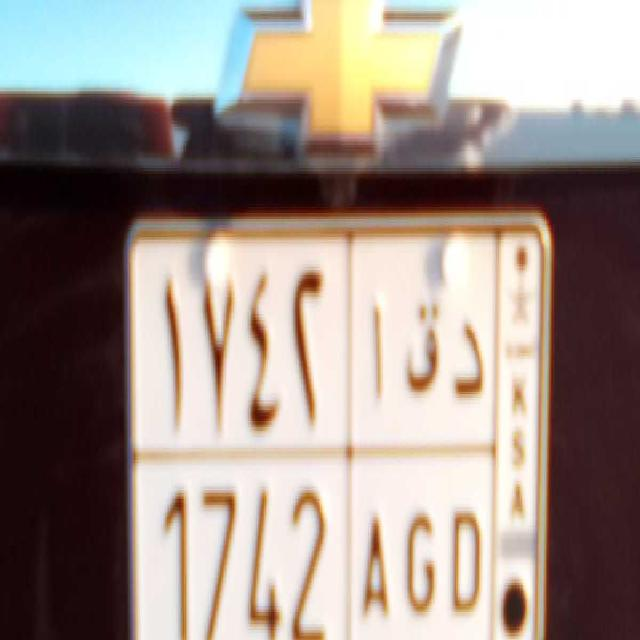license_plate: (148, 450, 489, 640)
